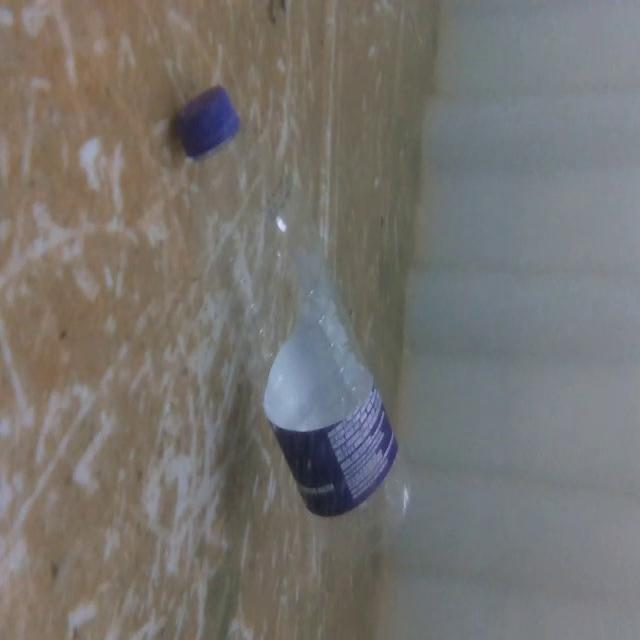plastic bottle: (172, 80, 422, 563)
